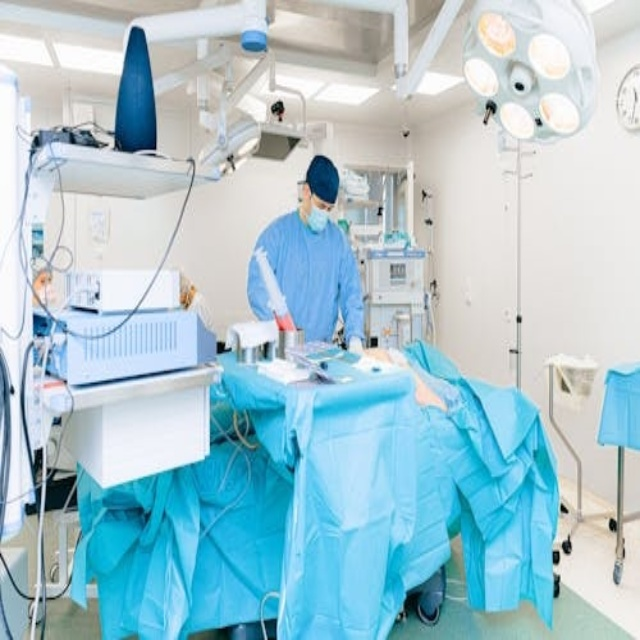Mascara: (304, 196, 332, 232)
